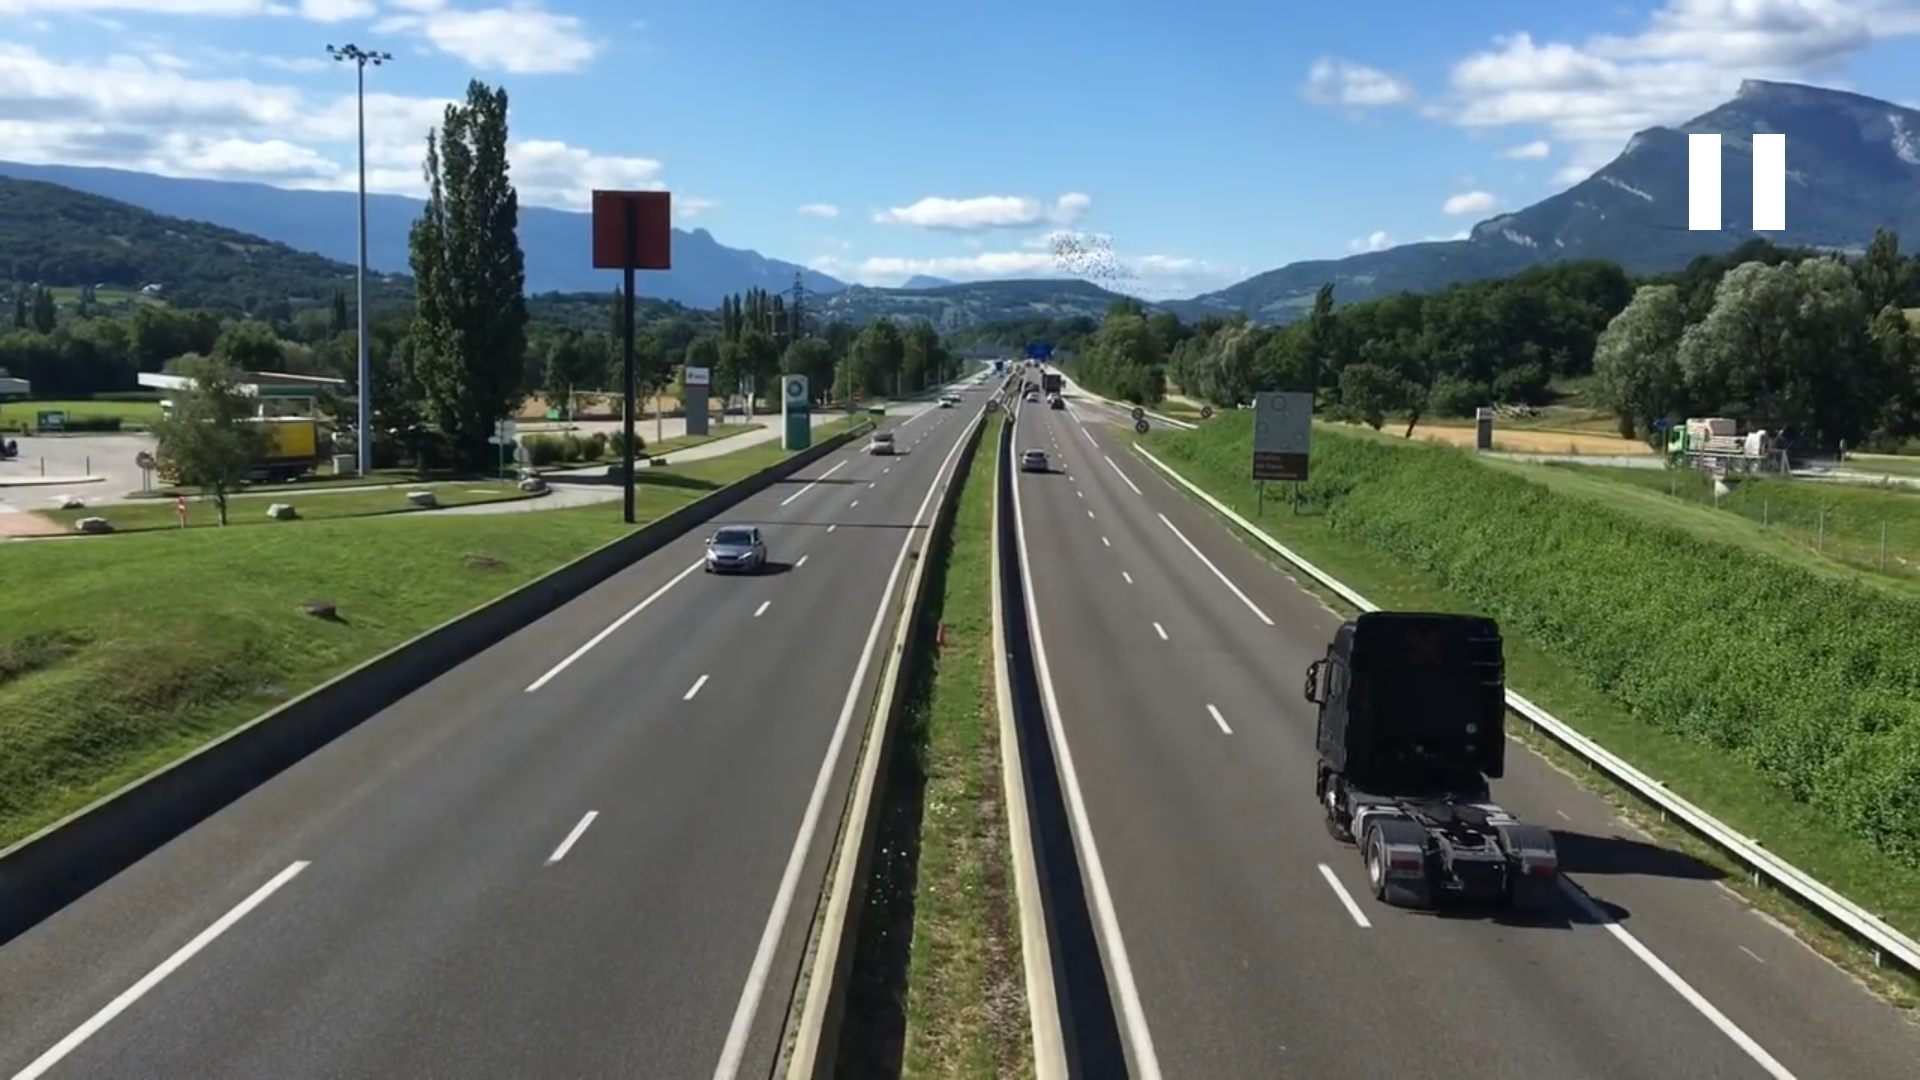HeavyVehicle: (1302, 593, 1571, 924)
LightVehicle: (698, 524, 769, 579)
